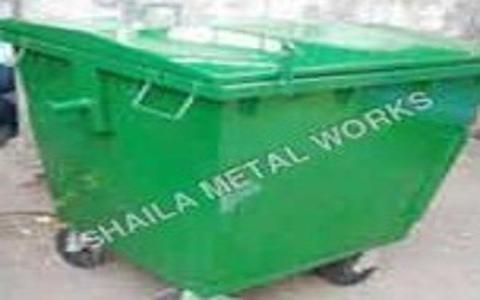Proper garbage: (1, 7, 478, 299)
